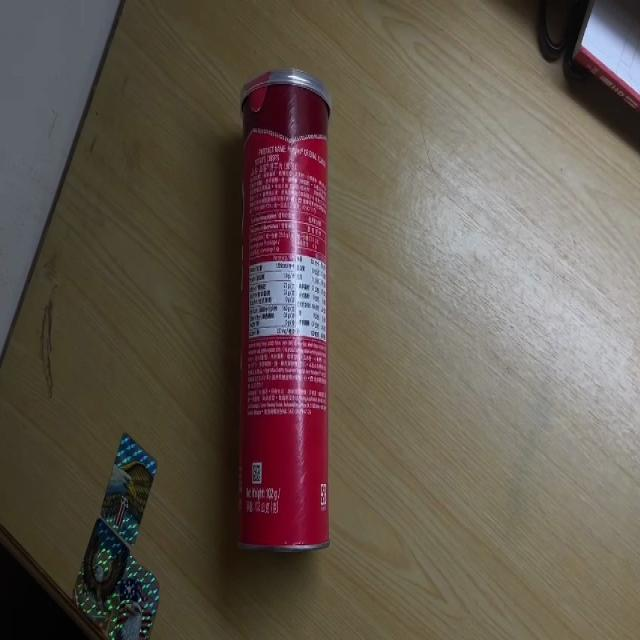Pringles: (235, 68, 330, 553)
